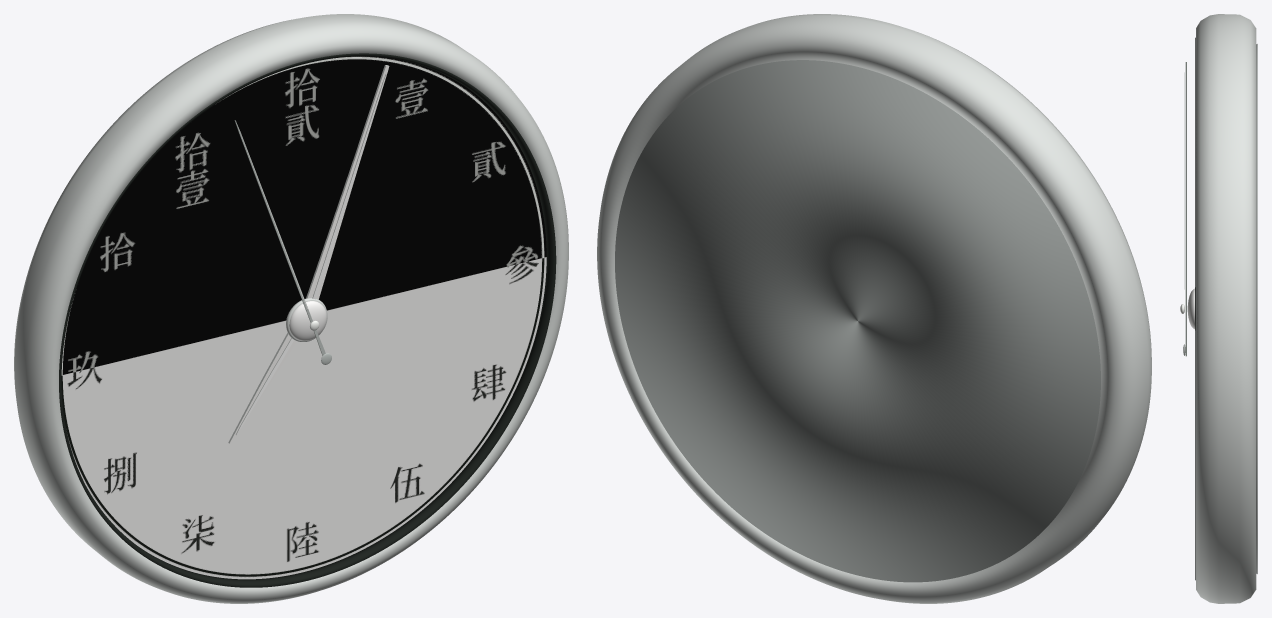
The model's file is monogatari-clock.glb.
The picture shows the model from 3 angles, left to right: view 1: azimuth 30°, elevation 25°; view 2: azimuth 150°, elevation 25°; view 3: azimuth 270°, elevation 25°; orthographic projection. The views are drawn at different scales.
Parts seen in each view (by area): view 1: dial | printed face, case | rounded silver shell, bezel | recessed black ring, index_circle | lower black, minute_hand | long white blade, index_circle | upper white, hub | rounded white cap, hour_hand | tapered white blade, minute_hand | raised enamel spine; view 2: back | simple closed panel, case | rounded silver shell; view 3: case | rounded silver shell, back | simple closed panel, second_hand | fine satin steel needle, bezel | recessed black ring, hub | rounded white cap, second_hand | polished centerline.
Boxes of the visible parts, left/top/right/bottom form: dial | printed face: left=62, top=56, right=546, bottom=579; case | rounded silver shell: left=14, top=14, right=568, bottom=603; bezel | recessed black ring: left=59, top=53, right=556, bottom=587; index_circle | lower black: left=61, top=258, right=544, bottom=576; minute_hand | long white blade: left=306, top=65, right=389, bottom=299; index_circle | upper white: left=61, top=57, right=544, bottom=375; hub | rounded white cap: left=289, top=301, right=326, bottom=340; hour_hand | tapered white blade: left=228, top=333, right=296, bottom=443; minute_hand | raised enamel spine: left=312, top=74, right=386, bottom=299; back | simple closed panel: left=615, top=60, right=1100, bottom=582; case | rounded silver shell: left=597, top=14, right=1151, bottom=603; case | rounded silver shell: left=1196, top=14, right=1256, bottom=603; back | simple closed panel: left=1256, top=44, right=1257, bottom=573; second_hand | fine satin steel needle: left=1185, top=62, right=1186, bottom=356; bezel | recessed black ring: left=1195, top=37, right=1195, bottom=580; hub | rounded white cap: left=1187, top=288, right=1194, bottom=329; second_hand | polished centerline: left=1184, top=72, right=1184, bottom=289.
Size of the model in its own units: 0.3 by 0.3 by 0.0393.
15 materials, 1 textured.
